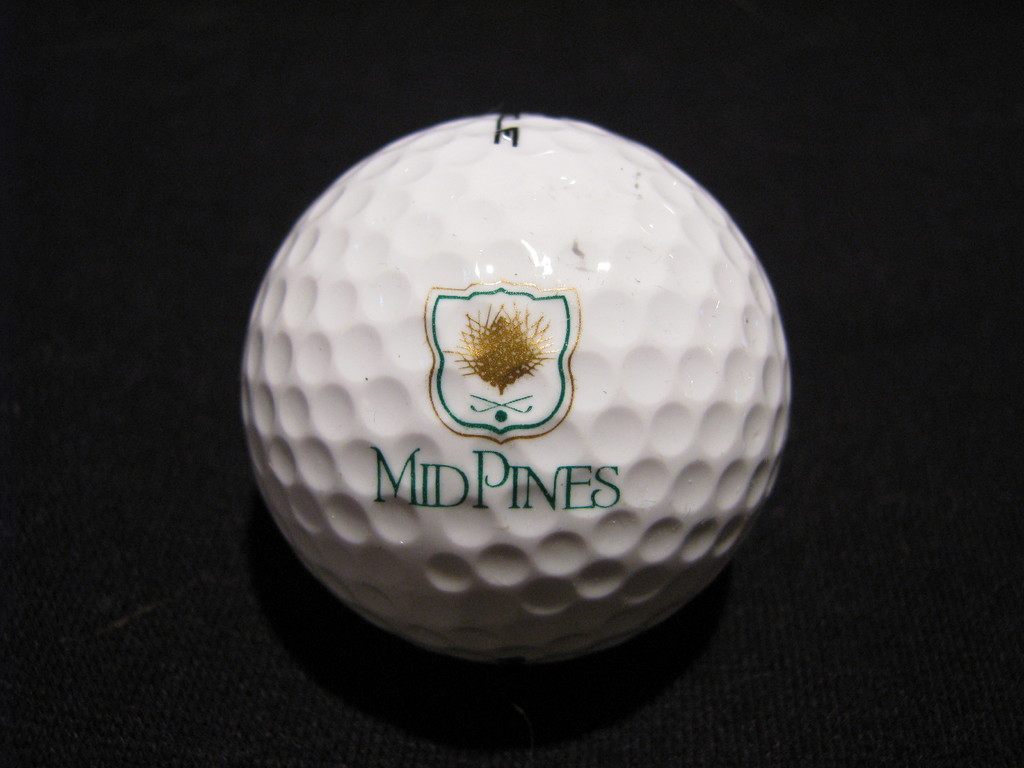Ball: (241, 111, 791, 663)
